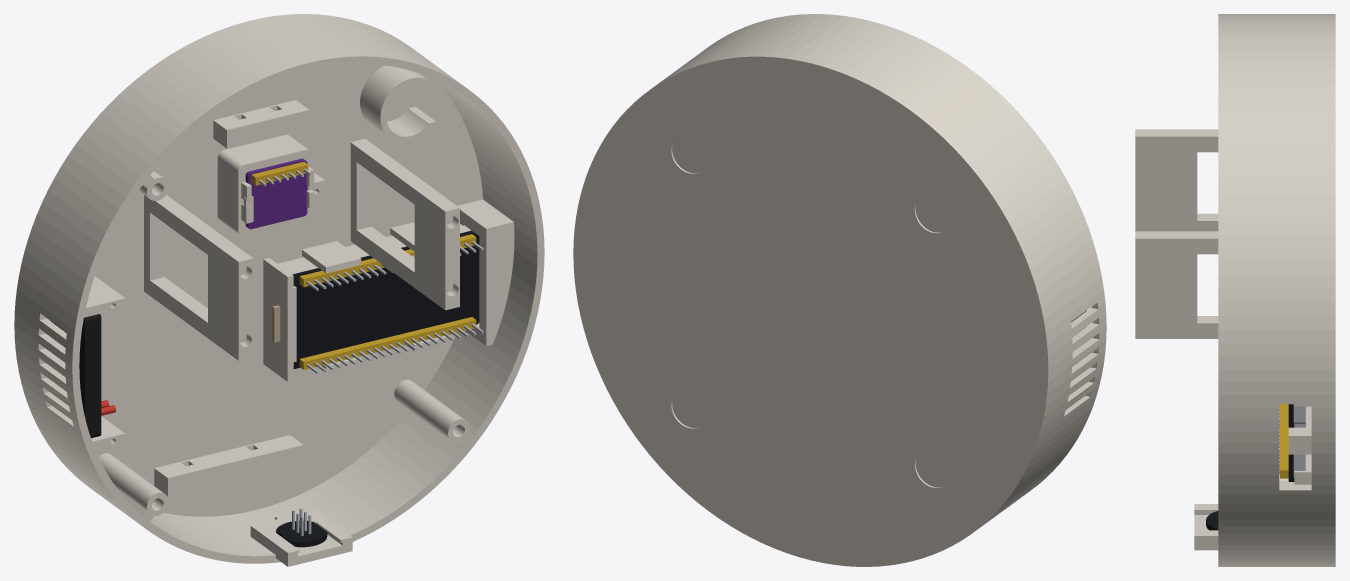
Rendered from plate-2-base.glb.
3 views of the same model, side by side, from view 1: azimuth 30°, elevation 25°; view 2: azimuth 150°, elevation 25°; view 3: azimuth 270°, elevation 25° (orthographic).
Parts seen in each view (by area): view 1: base, esp32-pcb, esp32-headers, amp-pcb, spk-frame, esp32-pins, mic-pcb; view 2: base; view 3: base, esp32-headers, esp32-usb, esp32-pcb.
Boxes of the visible parts, x1=… form: base: x1=14, y1=14, x2=544, y2=566; esp32-pcb: x1=292, y1=230, x2=479, y2=368; esp32-headers: x1=299, y1=234, x2=476, y2=369; amp-pcb: x1=245, y1=158, x2=307, y2=229; spk-frame: x1=51, y1=314, x2=101, y2=438; esp32-pins: x1=306, y1=241, x2=483, y2=373; mic-pcb: x1=276, y1=521, x2=327, y2=547; base: x1=573, y1=14, x2=1106, y2=566; base: x1=1135, y1=14, x2=1335, y2=566; esp32-headers: x1=1280, y1=404, x2=1288, y2=478; esp32-usb: x1=1293, y1=404, x2=1305, y2=477; esp32-pcb: x1=1288, y1=404, x2=1294, y2=481.
Size of the model in its own units: 160 by 160 by 58.
